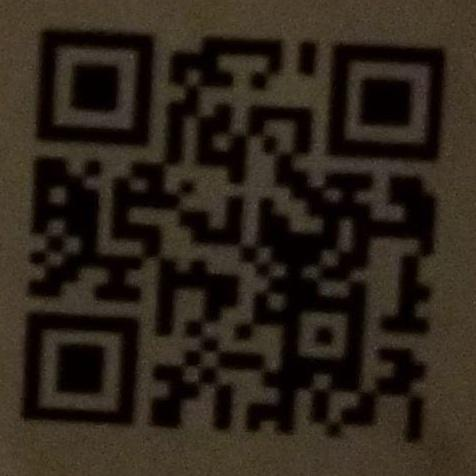qrcode: (22, 29, 449, 449)
